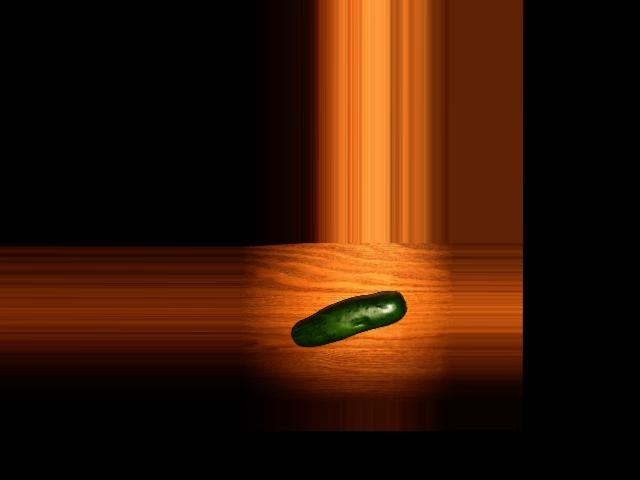cucumber: (290, 290, 405, 346)
